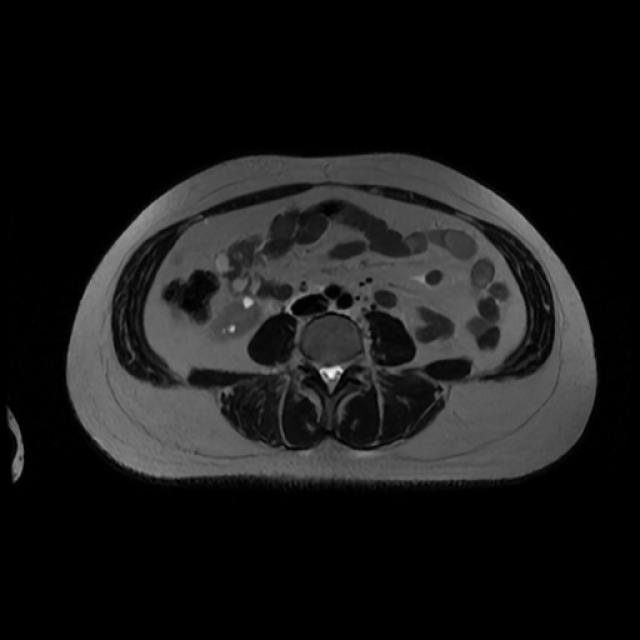sag: (210, 298, 264, 339)
